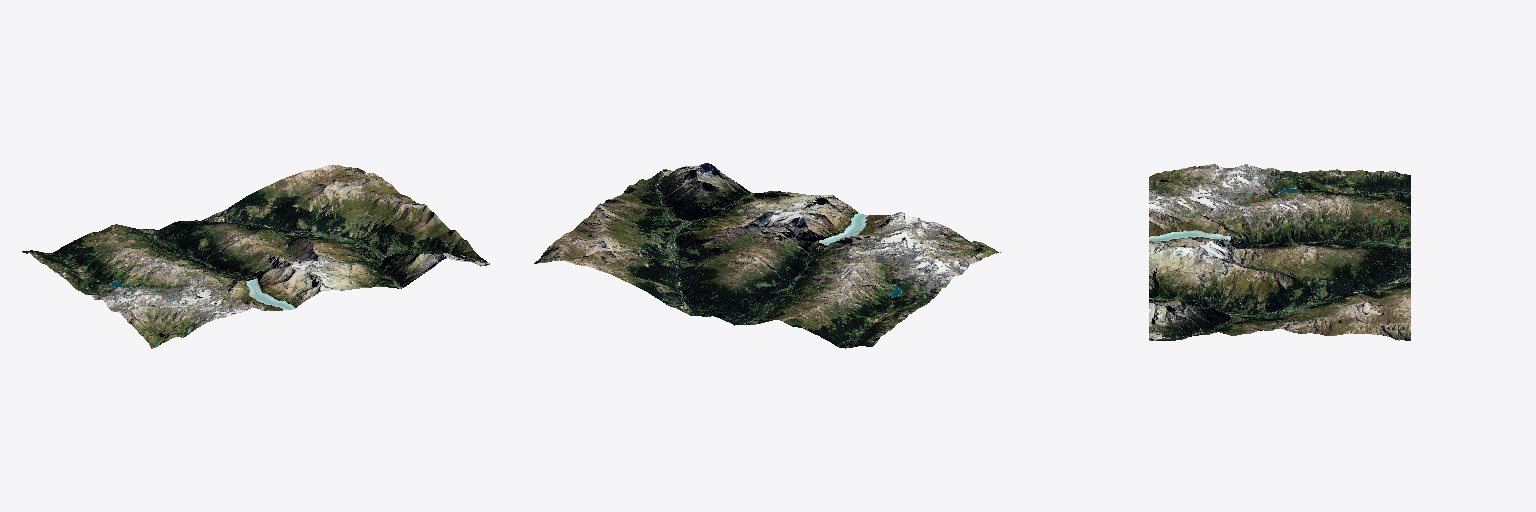
3 renders of one model, left to right at view 1: azimuth 30°, elevation 25°; view 2: azimuth 150°, elevation 25°; view 3: azimuth 270°, elevation 25°, orthographic.
Parts seen in each view (by area): view 1: EXPORT_GOOGLE_SAT_WM.028; view 2: EXPORT_GOOGLE_SAT_WM.028; view 3: EXPORT_GOOGLE_SAT_WM.028.
Part boxes in pixels (x1,y1,x2,y2): EXPORT_GOOGLE_SAT_WM.028: (22, 165, 489, 348); EXPORT_GOOGLE_SAT_WM.028: (534, 163, 1000, 348); EXPORT_GOOGLE_SAT_WM.028: (1149, 164, 1410, 340).
Size of the model in its own units: 36498 by 3128 by 24332.
Materials: 1 (1 with a texture image).